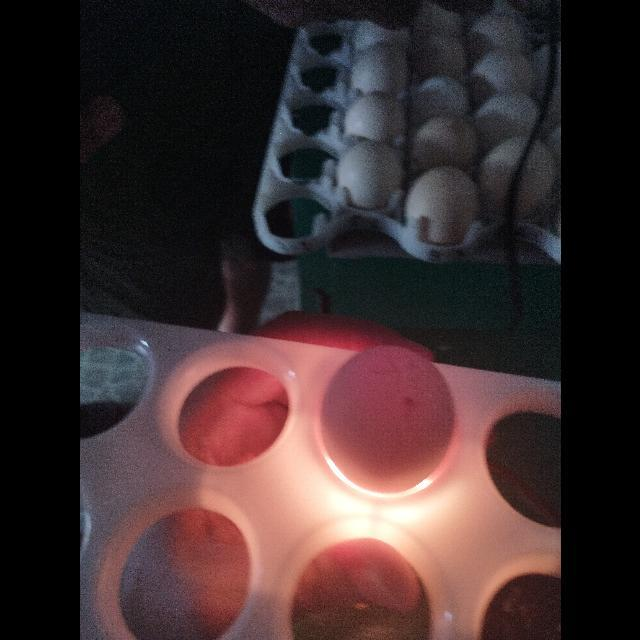Fertile: (317, 342, 458, 502)
